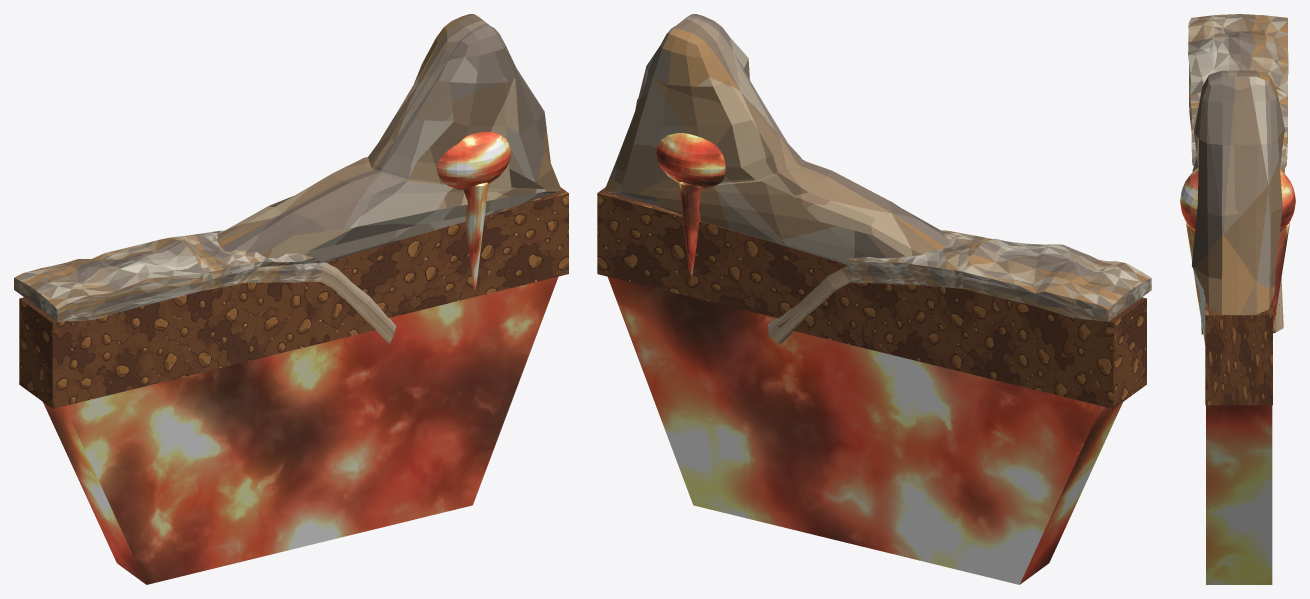
Rendered from FelsenmeAR.glb.
3 renders of one model, left to right at view 1: azimuth 30°, elevation 25°; view 2: azimuth 150°, elevation 25°; view 3: azimuth 270°, elevation 25°, orthographic. The views are drawn at different scales.
Visible parts, largest first — view 1: Magma2, CapaSuperiorA, CapaInferiorB, CapaInferiorA, CapaSuperiorB, Sphere, Cylinder; view 2: Magma2, CapaSuperiorA, CapaInferiorB, CapaSuperiorB, CapaInferiorA, Sphere, Cylinder; view 3: CapaSuperiorA, Magma2, CapaInferiorA, CapaSuperiorB, Sphere, Cylinder.
Boxes of the visible parts, x1,y1,x2,y2 form: Magma2: (43,276,558,584); CapaSuperiorA: (216,14,560,262); CapaInferiorB: (19,282,375,408); CapaInferiorA: (14,230,396,343); CapaSuperiorB: (306,187,568,317); Sphere: (437,132,510,189); Cylinder: (464,182,488,289); Magma2: (608,276,1122,584); CapaSuperiorA: (605,14,950,265); CapaInferiorB: (778,282,1146,408); CapaSuperiorB: (597,187,850,318); CapaInferiorA: (768,230,1151,343); Sphere: (656,133,725,188); Cylinder: (678,181,701,276); CapaSuperiorA: (1191,70,1284,315); Magma2: (1206,405,1272,584); CapaInferiorA: (1188,14,1288,334); CapaSuperiorB: (1205,298,1272,405); Sphere: (1180,167,1295,232); Cylinder: (1186,222,1289,344).
Bounding box in the file's own units: 4.67 × 4.04 × 0.8123.
4 materials, 4 textured.
